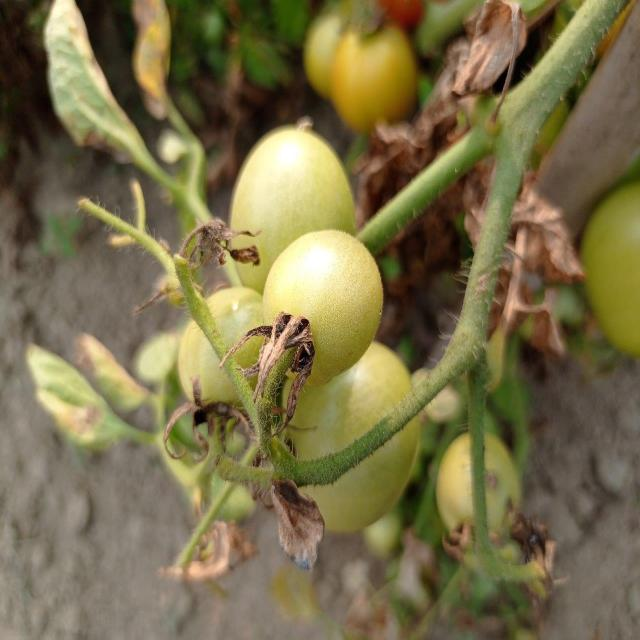Unripe: (266, 225, 381, 379)
